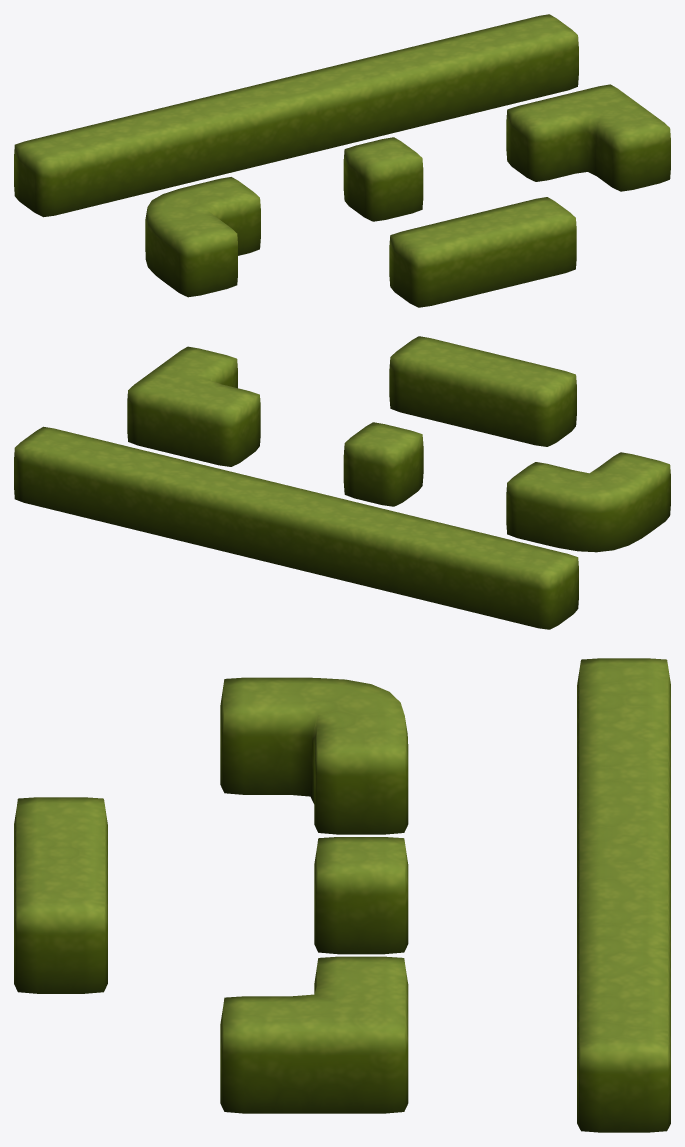
File: Hedge.FBX
3 views of the same model, one above another, from view 1: azimuth 30°, elevation 25°; view 2: azimuth 150°, elevation 25°; view 3: azimuth 270°, elevation 25° (orthographic). The views are drawn at different scales.
Visible parts, largest first — view 1: Hedge_E, Hedge_D, Hedge_B, Hedge_C, Hedge_A; view 2: Hedge_E, Hedge_D, Hedge_C, Hedge_B, Hedge_A; view 3: Hedge_E, Hedge_B, Hedge_C, Hedge_D, Hedge_A.
Part boxes in pixels (x1,y1,x2,y2): Hedge_E: [14, 14, 578, 217]; Hedge_D: [389, 197, 576, 307]; Hedge_B: [506, 84, 670, 191]; Hedge_C: [145, 177, 260, 297]; Hedge_A: [343, 137, 423, 221]; Hedge_E: [14, 426, 578, 629]; Hedge_D: [389, 336, 576, 446]; Hedge_C: [506, 452, 670, 552]; Hedge_B: [127, 346, 260, 466]; Hedge_A: [343, 422, 423, 506]; Hedge_E: [577, 658, 670, 1132]; Hedge_B: [220, 956, 408, 1113]; Hedge_C: [220, 677, 408, 834]; Hedge_D: [14, 797, 107, 993]; Hedge_A: [314, 837, 408, 954].
Size of the model in its own units: 250 by 23.96 by 175.
1 material, 1 textured.
